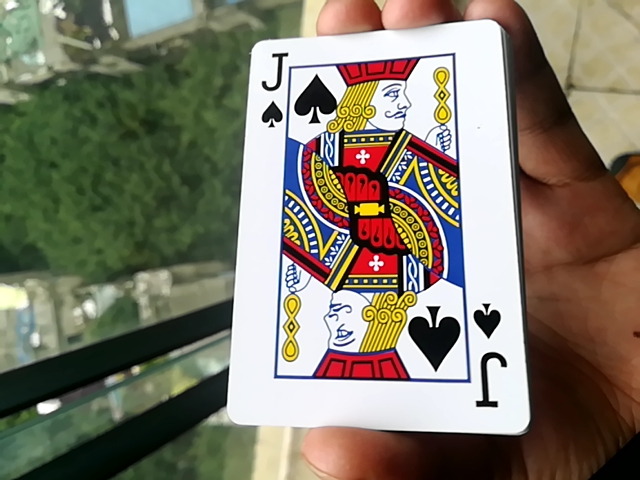ht j: (218, 18, 527, 433)
